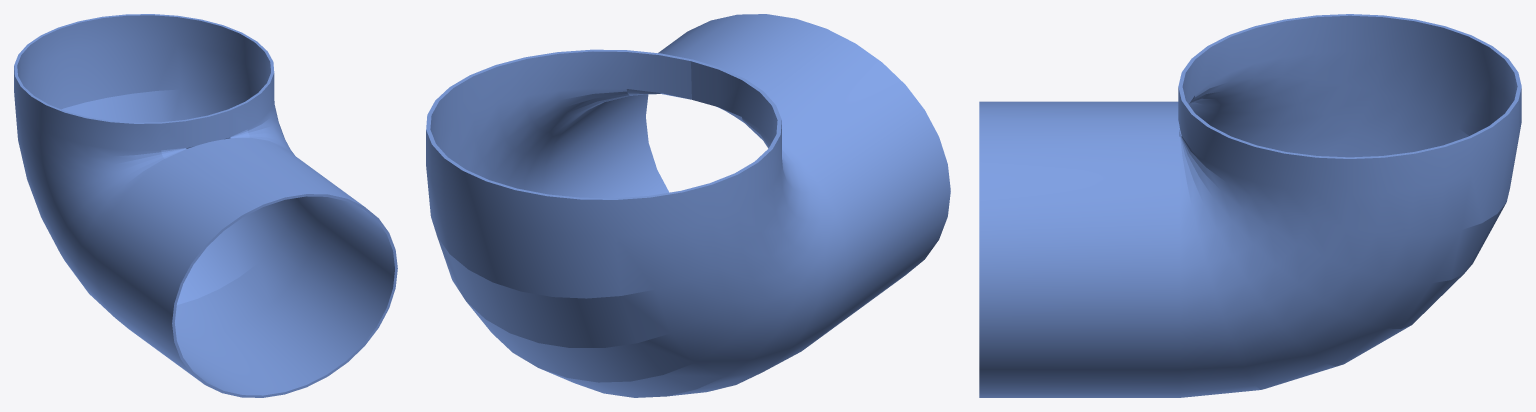
Rendered from altdirsek.fbx.
3 renders of one model, left to right at view 1: azimuth 30°, elevation 25°; view 2: azimuth 150°, elevation 25°; view 3: azimuth 270°, elevation 25°, orthographic. The views are drawn at different scales.
Visible parts, largest first — view 1: altdirsek; view 2: altdirsek; view 3: altdirsek.
Part boxes in pixels (<box>): altdirsek: <box>14,14,397,397</box>; altdirsek: <box>426,14,950,397</box>; altdirsek: <box>979,14,1521,397</box>.
Bounding box in the file's own units: 120 × 113 × 189.
